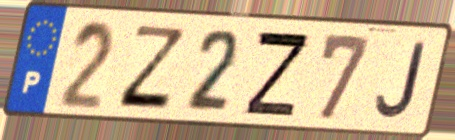2: (54, 17, 118, 112), (182, 27, 242, 115)
7: (317, 30, 373, 123)
J: (372, 40, 429, 122)
Z: (114, 22, 189, 112), (242, 27, 313, 119)
